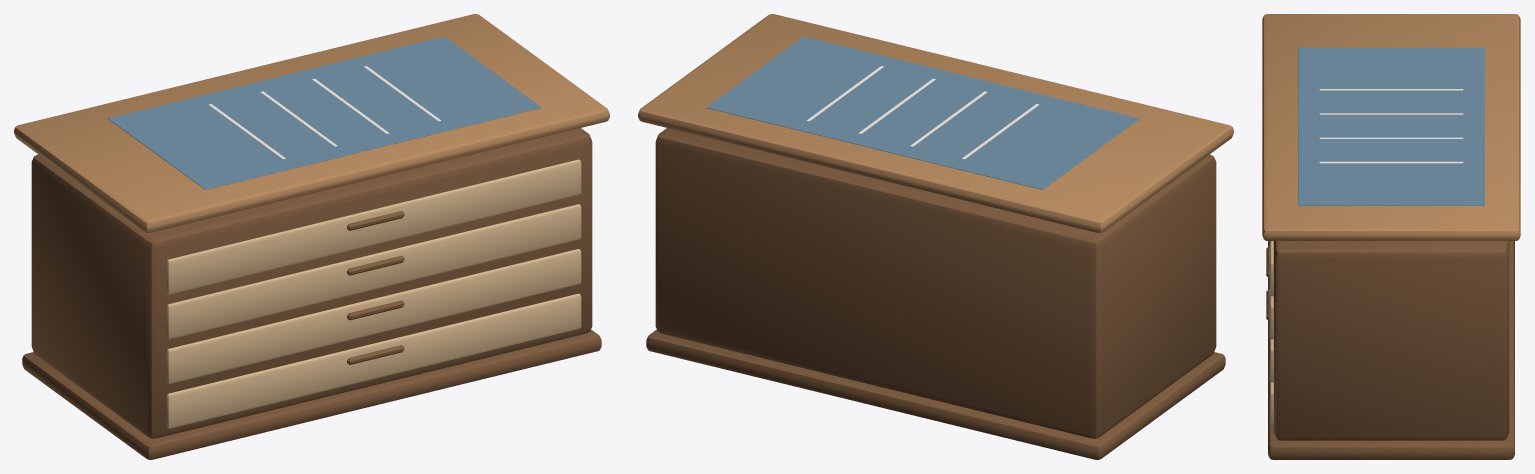
File: plan_table.glb
3 renders of one model, left to right at view 1: azimuth 30°, elevation 25°; view 2: azimuth 150°, elevation 25°; view 3: azimuth 270°, elevation 25°, orthographic. The views are drawn at different scales.
Parts seen in each view (by area): view 1: FURN-plan_table; view 2: FURN-plan_table; view 3: FURN-plan_table.
Boxes of the visible parts, x1=… form: FURN-plan_table: x1=14, y1=14, x2=609, y2=459; FURN-plan_table: x1=638, y1=14, x2=1233, y2=459; FURN-plan_table: x1=1262, y1=14, x2=1520, y2=459.
Size of the model in its own units: 1.8 by 0.904 by 0.9.
